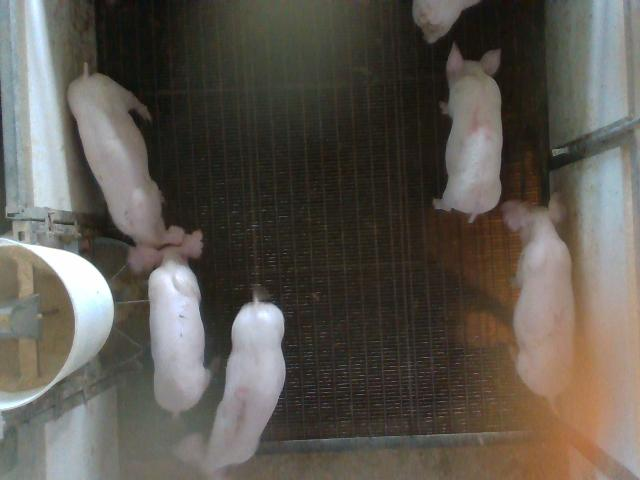pig-3: (175, 285, 286, 478)
pig-4: (434, 44, 501, 222)
